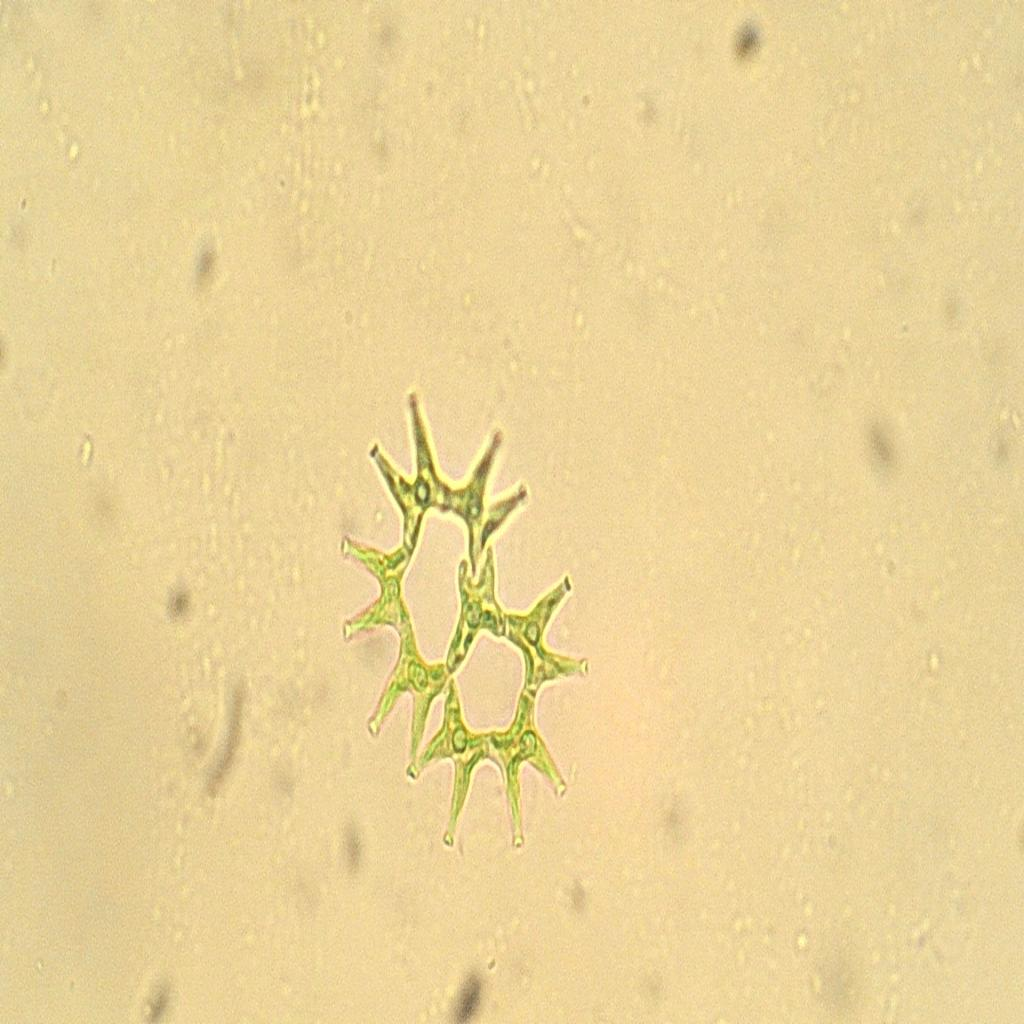Pediastrum_CFI: (324, 374, 604, 872)
